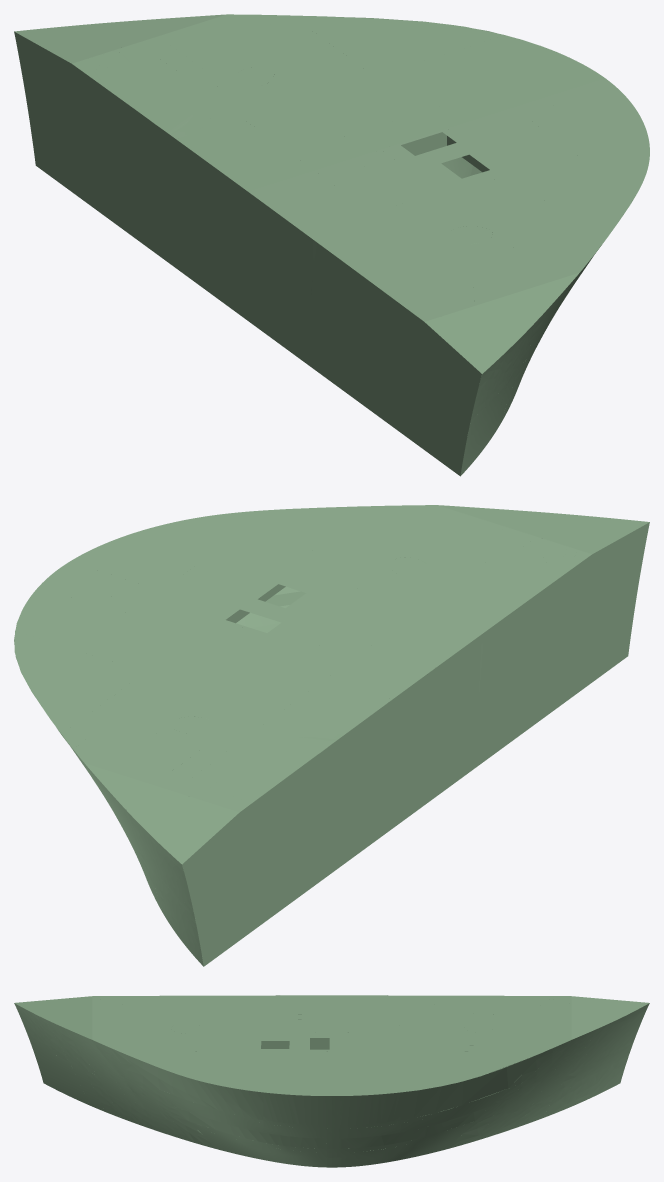
File: BOATSWAINS_STORE.glb
3 renders of one model, top to bottom at view 1: azimuth 30°, elevation 25°; view 2: azimuth 150°, elevation 25°; view 3: azimuth 270°, elevation 25°, orthographic. The views are drawn at different scales.
Visible parts, largest first — view 1: PL_UDxFPTS_002012-15.5_NVA_1993, PL_UDxFPTP_016007-15.5_NVA_1993, PL_UDxFPTP_008012-15.5_NVA_1993, PL_UDxFPTP_010006-15.5_NVA_1993, PL_UDxFPTP_016004-15.5_NVA_1993, PL_UDxFPTS_010007-15.5_NVA_1993, PL_SideTransxFR100S_014001-13_NVA_1993, PL_SideTransxFR100P_012001-13_NVA_1993, PL_UDxFPTS_001006-15.5_NVA_1993, PL_SideTransxFR100S_013002-13_NVA_1993, PL_SideTransxFR100P_013002-13_NVA_1993, PL_UDxFPTS_016003-15.5_NVA_1993 (+45 smaller); view 2: PL_UDxFPTS_002012-15.5_NVA_1993, PL_UDxFPTP_016007-15.5_NVA_1993, PL_UDxFPTP_008012-15.5_NVA_1993, PL_UDxFPTP_010006-15.5_NVA_1993, PL_UDxFPTP_016004-15.5_NVA_1993, PL_UDxFPTS_010007-15.5_NVA_1993, PL_SideTransxFR100S_014001-13_NVA_1993, PL_SideTransxFR100P_012001-13_NVA_1993, PL_UDxFPTS_001006-15.5_NVA_1993, PL_SideTransxFR100S_013002-13_NVA_1993, PL_SideTransxFR100P_013002-13_NVA_1993, PL_UDxFPTP_018003-15.5_NVA_1993 (+45 smaller); view 3: PL_UDxFPTS_002012-15.5_NVA_1993, PL_UDxFPTP_016007-15.5_NVA_1993, PL_OuterShellxFPTS_066001-20_NVA_1993, PL_OuterShellxFPTP_055001-20_NVA_1993, PL_UDxFPTP_008012-15.5_NVA_1993, PL_UDxFPTP_010006-15.5_NVA_1993, PL_UDxFPTP_016004-15.5_NVA_1993, PL_UDxFPTS_010007-15.5_NVA_1993, PL_OuterShellxFPTS_061002-20_NVA_1993, PL_OuterShellxFPTP_061004-20_NVA_1993, PL_UDxFPTS_001006-15.5_NVA_1993, PL_OuterShellxFPTS_049001-20_NVA_1993 (+49 smaller).
Boxes of the visible parts, box(x1,y1,x2,y2) form: PL_UDxFPTS_002012-15.5_NVA_1993: box(445, 78, 648, 188); PL_UDxFPTP_016007-15.5_NVA_1993: box(258, 14, 504, 83); PL_UDxFPTP_008012-15.5_NVA_1993: box(353, 35, 578, 118); PL_UDxFPTP_010006-15.5_NVA_1993: box(72, 36, 261, 139); PL_UDxFPTP_016004-15.5_NVA_1993: box(177, 14, 352, 105); PL_UDxFPTS_010007-15.5_NVA_1993: box(497, 140, 649, 227); PL_SideTransxFR100S_014001-13_NVA_1993: box(342, 261, 445, 400); PL_SideTransxFR100P_012001-13_NVA_1993: box(51, 52, 153, 187); PL_UDxFPTS_001006-15.5_NVA_1993: box(248, 164, 391, 233); PL_SideTransxFR100S_013002-13_NVA_1993: box(342, 349, 445, 464); PL_SideTransxFR100P_013002-13_NVA_1993: box(51, 136, 153, 251); PL_UDxFPTS_016003-15.5_NVA_1993: box(425, 294, 537, 359); PL_UDxFPTS_002012-15.5_NVA_1993: box(59, 526, 310, 618); PL_UDxFPTP_016007-15.5_NVA_1993: box(14, 631, 167, 748); PL_UDxFPTP_008012-15.5_NVA_1993: box(15, 587, 215, 679); PL_UDxFPTP_010006-15.5_NVA_1993: box(154, 708, 343, 812); PL_UDxFPTP_016004-15.5_NVA_1993: box(73, 679, 238, 778); PL_UDxFPTS_010007-15.5_NVA_1993: box(159, 509, 363, 573); PL_SideTransxFR100S_014001-13_NVA_1993: box(510, 543, 613, 677); PL_SideTransxFR100P_012001-13_NVA_1993: box(219, 752, 321, 890); PL_UDxFPTS_001006-15.5_NVA_1993: box(330, 613, 472, 681); PL_SideTransxFR100S_013002-13_NVA_1993: box(510, 626, 613, 742); PL_SideTransxFR100P_013002-13_NVA_1993: box(219, 839, 321, 955); PL_UDxFPTP_018003-15.5_NVA_1993: box(126, 785, 239, 849); PL_UDxFPTS_002012-15.5_NVA_1993: box(234, 1045, 331, 1095); PL_UDxFPTP_016007-15.5_NVA_1993: box(429, 1045, 557, 1088); PL_OuterShellxFPTS_066001-20_NVA_1993: box(121, 1052, 263, 1120); PL_OuterShellxFPTP_055001-20_NVA_1993: box(400, 1052, 543, 1120); PL_UDxFPTP_008012-15.5_NVA_1993: box(363, 1045, 429, 1095); PL_UDxFPTP_010006-15.5_NVA_1993: box(429, 995, 571, 1020); PL_UDxFPTP_016004-15.5_NVA_1993: box(429, 1025, 571, 1045); PL_UDxFPTS_010007-15.5_NVA_1993: box(163, 1045, 234, 1088); PL_OuterShellxFPTS_061002-20_NVA_1993: box(189, 1121, 327, 1167); PL_OuterShellxFPTP_061004-20_NVA_1993: box(341, 1121, 474, 1167); PL_UDxFPTS_001006-15.5_NVA_1993: box(254, 995, 331, 1019); PL_OuterShellxFPTS_049001-20_NVA_1993: box(263, 1092, 326, 1125).
Size of the model in its own units: 17.79 by 7.39 by 40.35.
